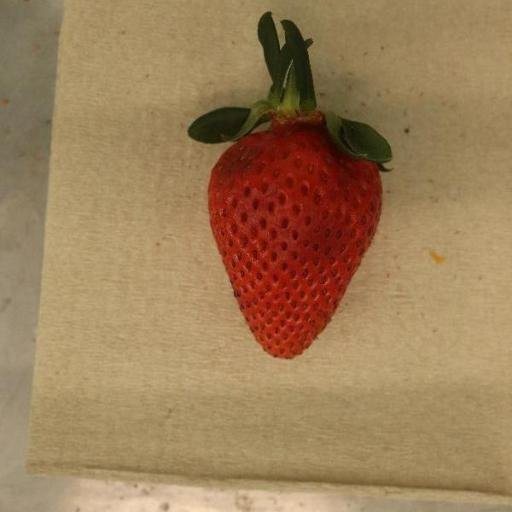Strawberry: (188, 12, 393, 361)
